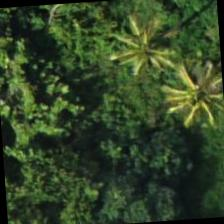Kelapa_Sawit: (94, 0, 191, 91), (147, 42, 223, 139)
